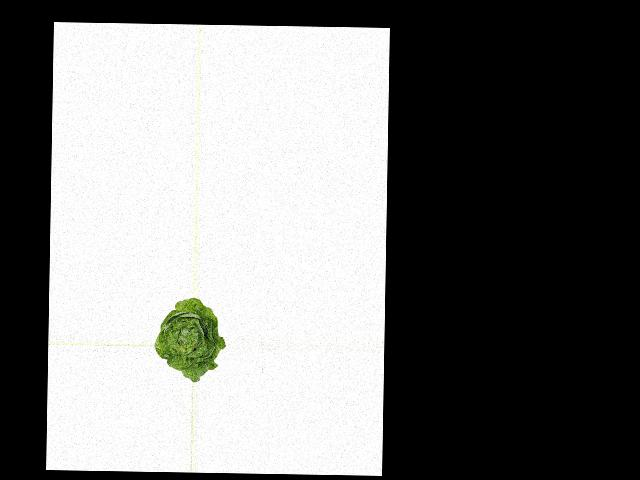lettuce: (154, 296, 226, 380)
